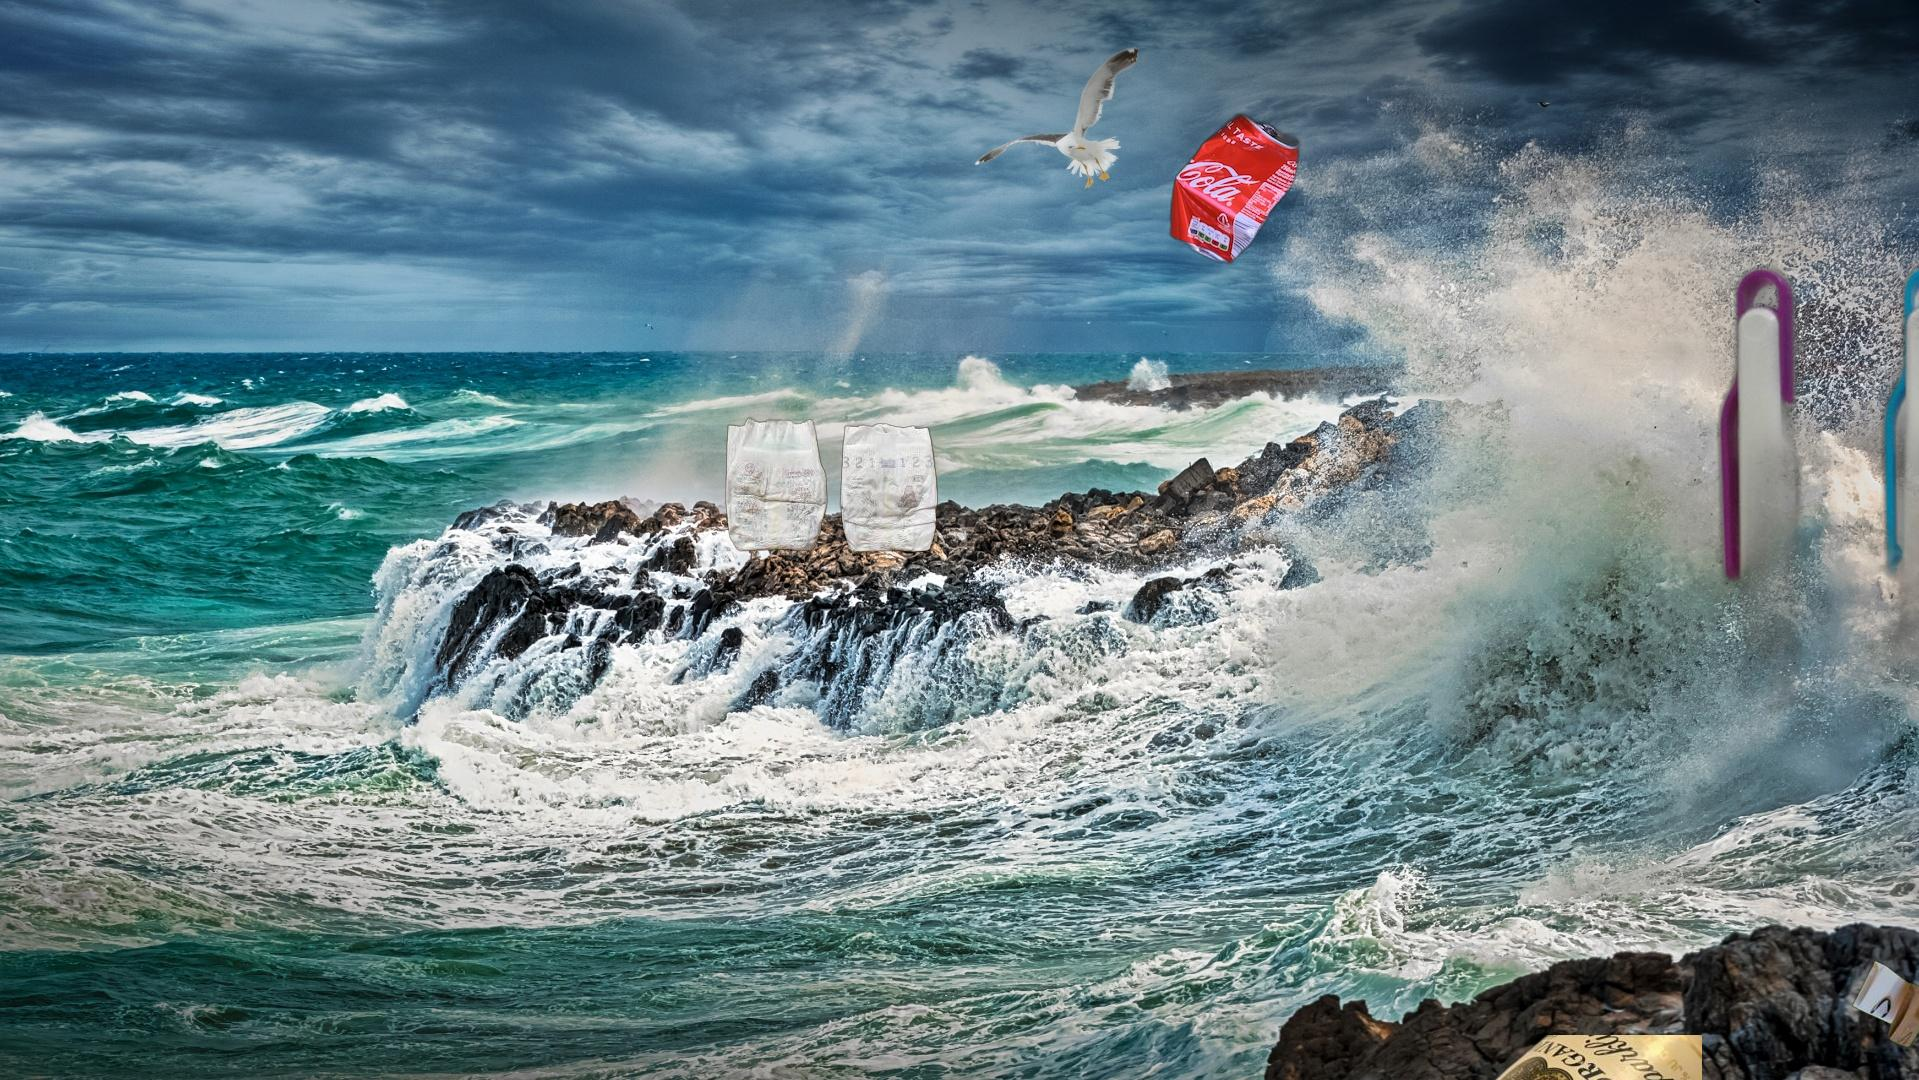glass: (1190, 1035, 1702, 1080)
metal-cans: (1166, 109, 1305, 269)
paper-bag: (1850, 957, 1919, 1080)
penholder: (1517, 255, 1919, 1080)
trash: (724, 414, 941, 556)
